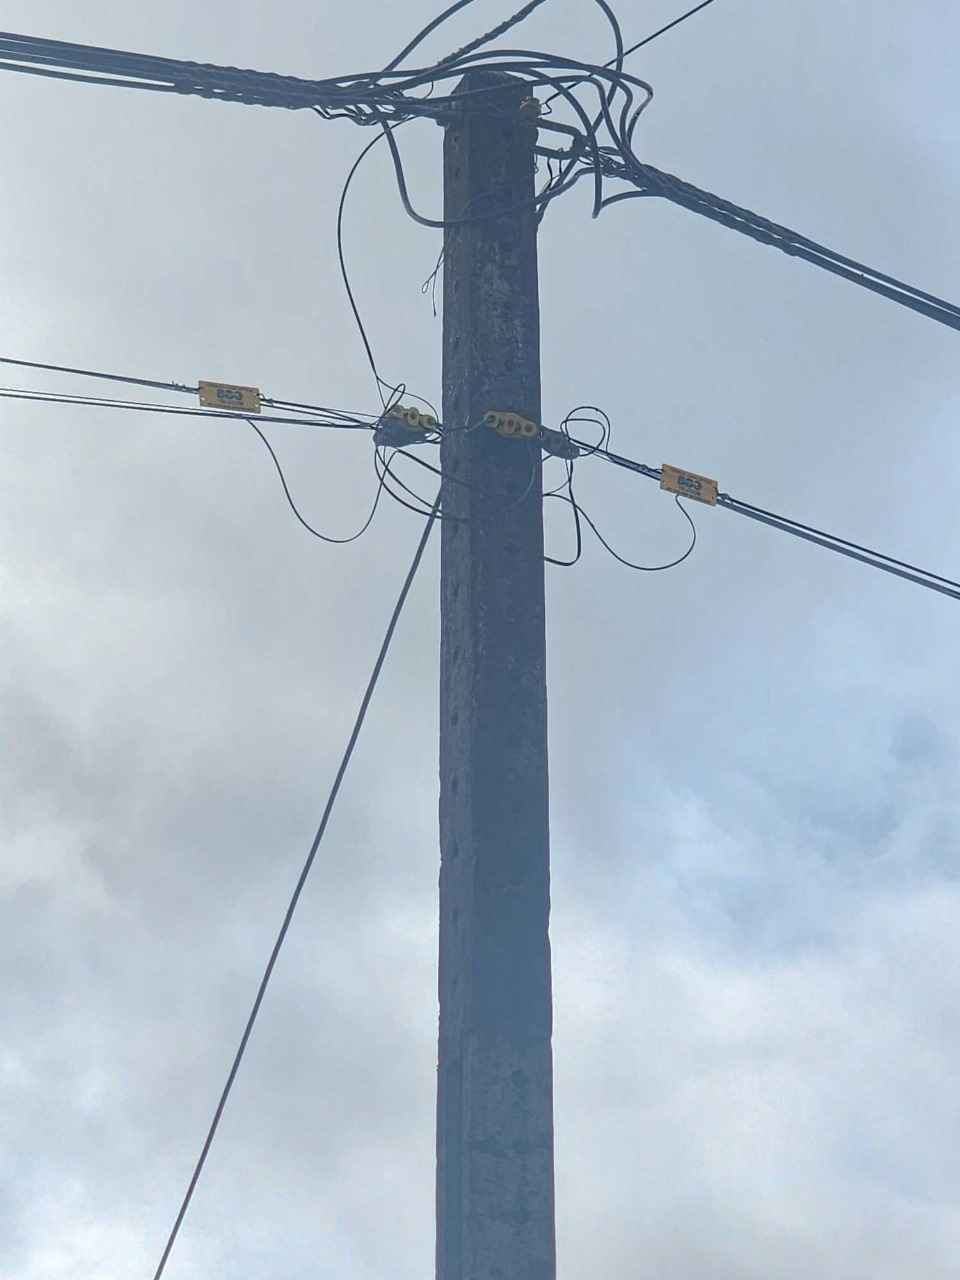poste: (432, 65, 544, 1280)
